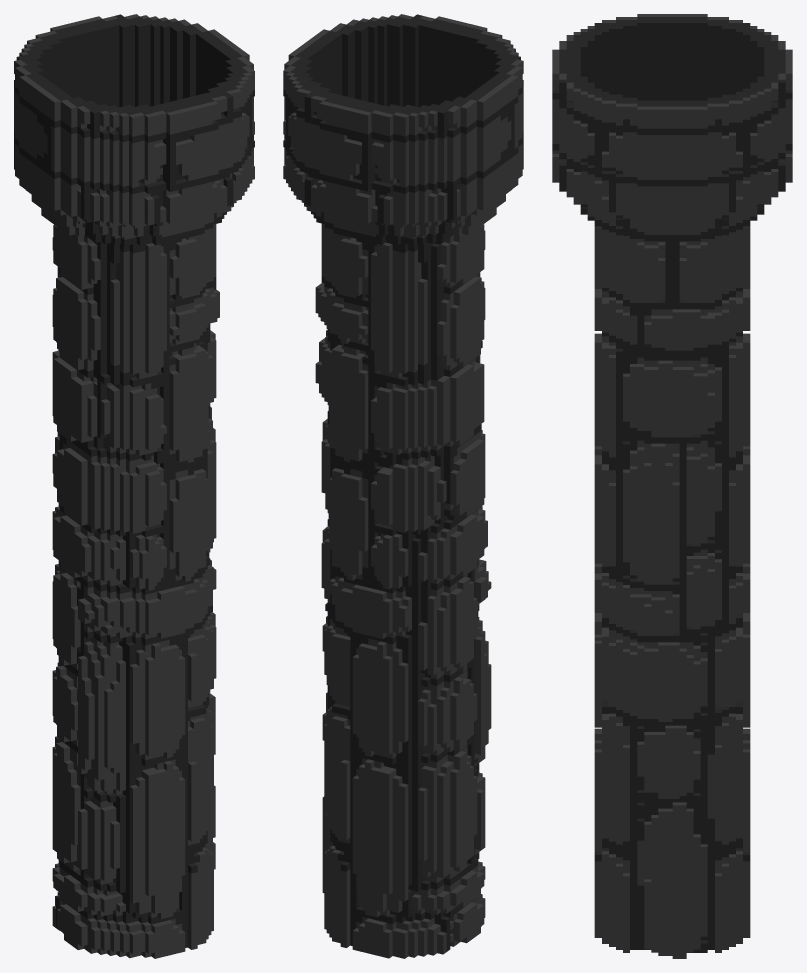
Rendered from piller.glb.
The picture shows the model from 3 angles, left to right: view 1: azimuth 30°, elevation 25°; view 2: azimuth 150°, elevation 25°; view 3: azimuth 270°, elevation 25°; orthographic projection.
Parts seen in each view (by area): view 1: Untitled; view 2: Untitled; view 3: Untitled.
Part boxes in pixels (x1,y1,x2,y2): Untitled: [14, 14, 254, 958]; Untitled: [283, 14, 523, 958]; Untitled: [552, 14, 792, 958].
Size of the model in its own units: 3.2 by 13.5 by 3.4.
1 material, 1 textured.
